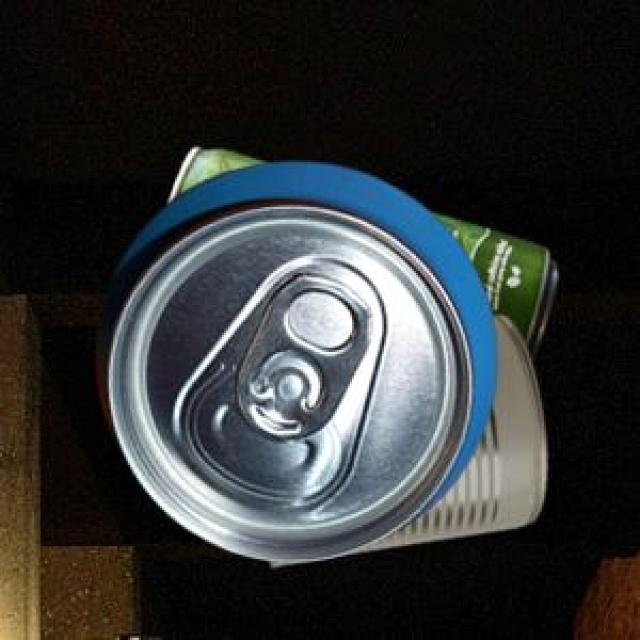logam: (93, 161, 494, 558), (167, 144, 554, 359), (355, 313, 543, 547)
